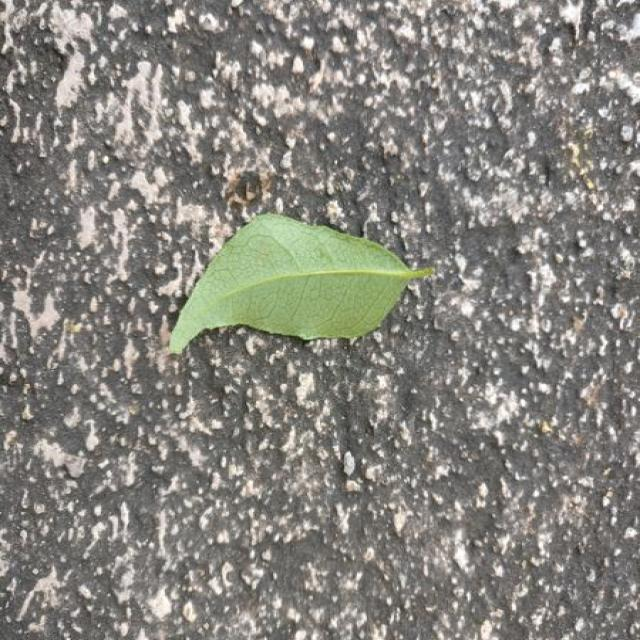curry: (170, 215, 432, 353)
